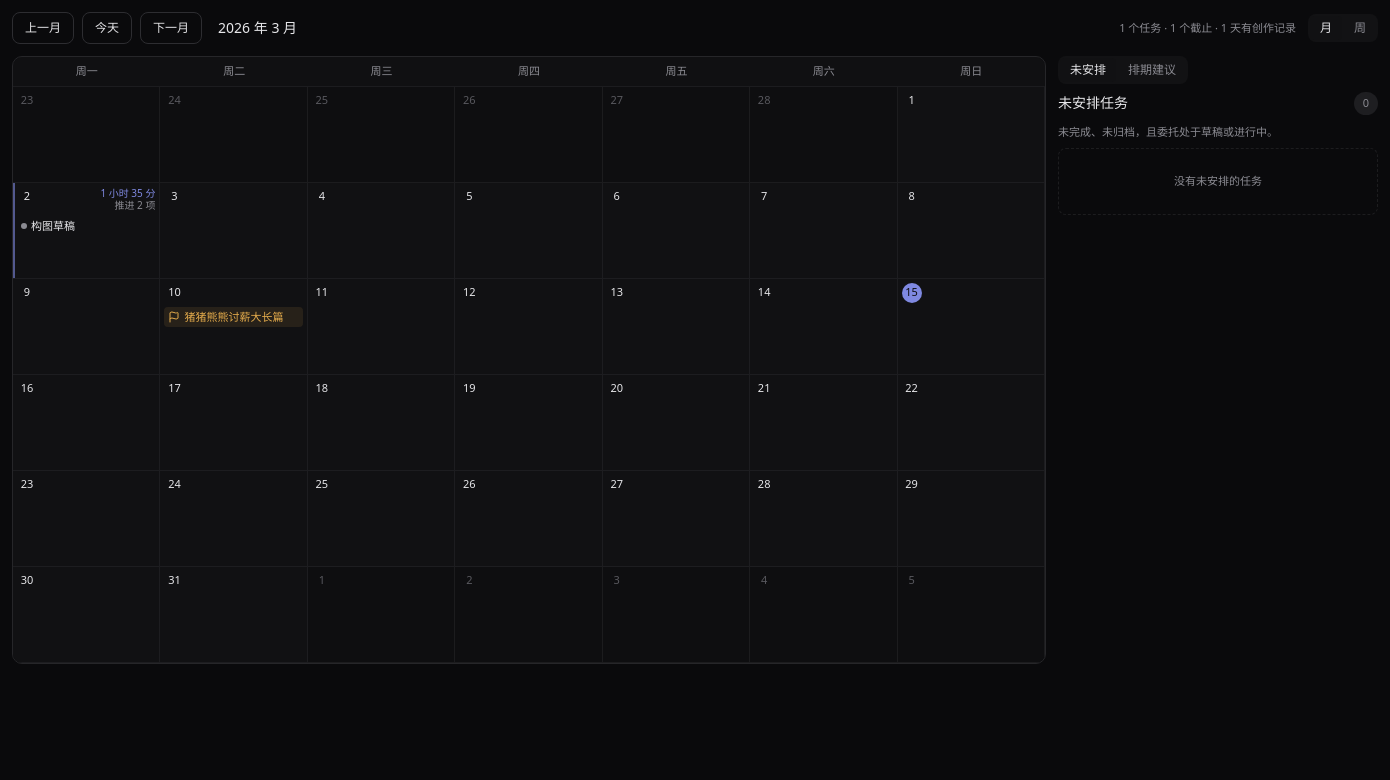
Scenario: 日历页：当天详情面板 › 点击日期出现详情面板并显示当天任务
The width and height of the screenshot is (1390, 780).
Expected: the element with test id "calendar-day" showing "2 1 小时 35 分 推进 2 项 构图草稿" is shown, x1=13 y1=182 x2=160 y2=278
Click the button with test id "calendar-day-select" next to "1 小时 35 分" at (27, 196), box x1=17 y1=186 x2=37 y2=206
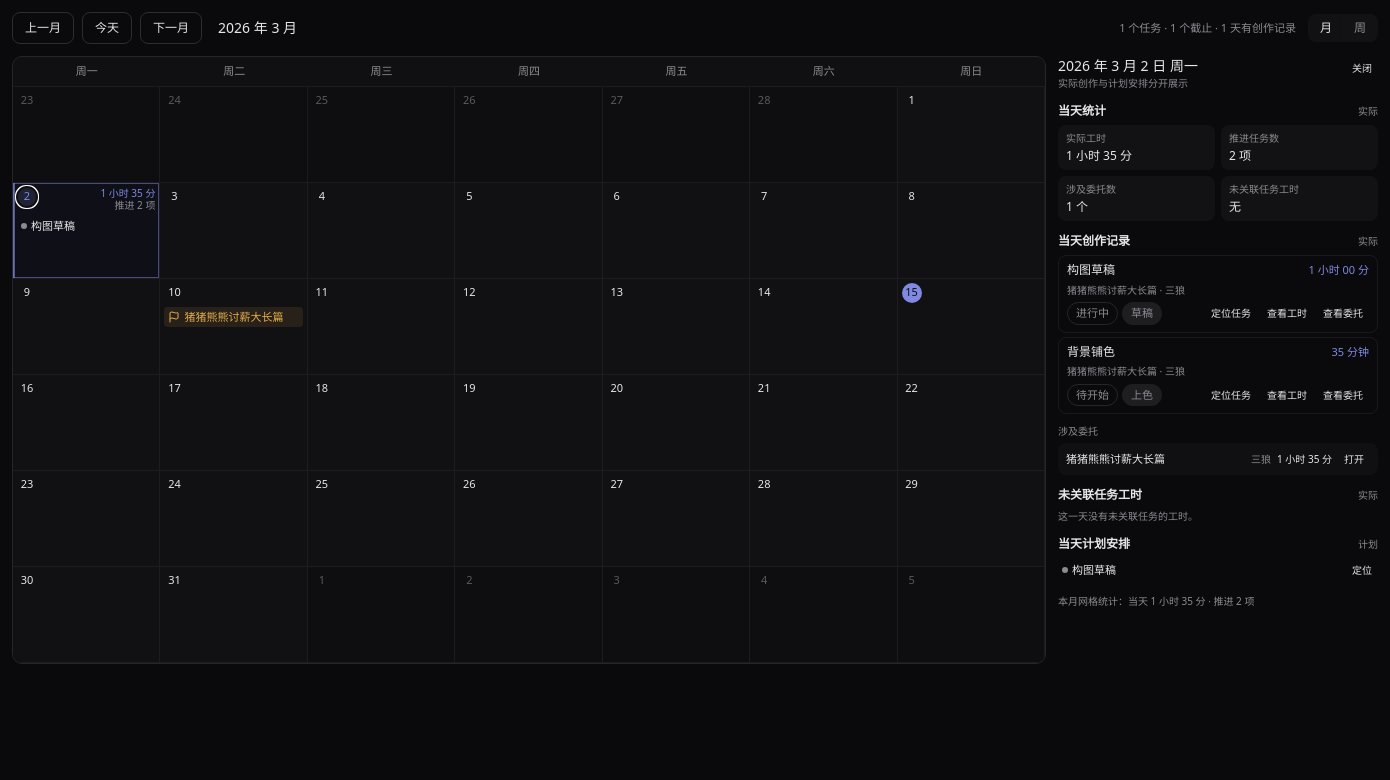
Expected: the text with test id "day-detail-total" reads "1 小时 35 分", x1=1066 y1=147 x2=1132 y2=164
Expected: the text with test id "day-detail-task-count" reads "2 项", x1=1229 y1=147 x2=1251 y2=164
Expected: the text with test id "day-detail-commission-count" reads "1 个", x1=1066 y1=198 x2=1088 y2=215
